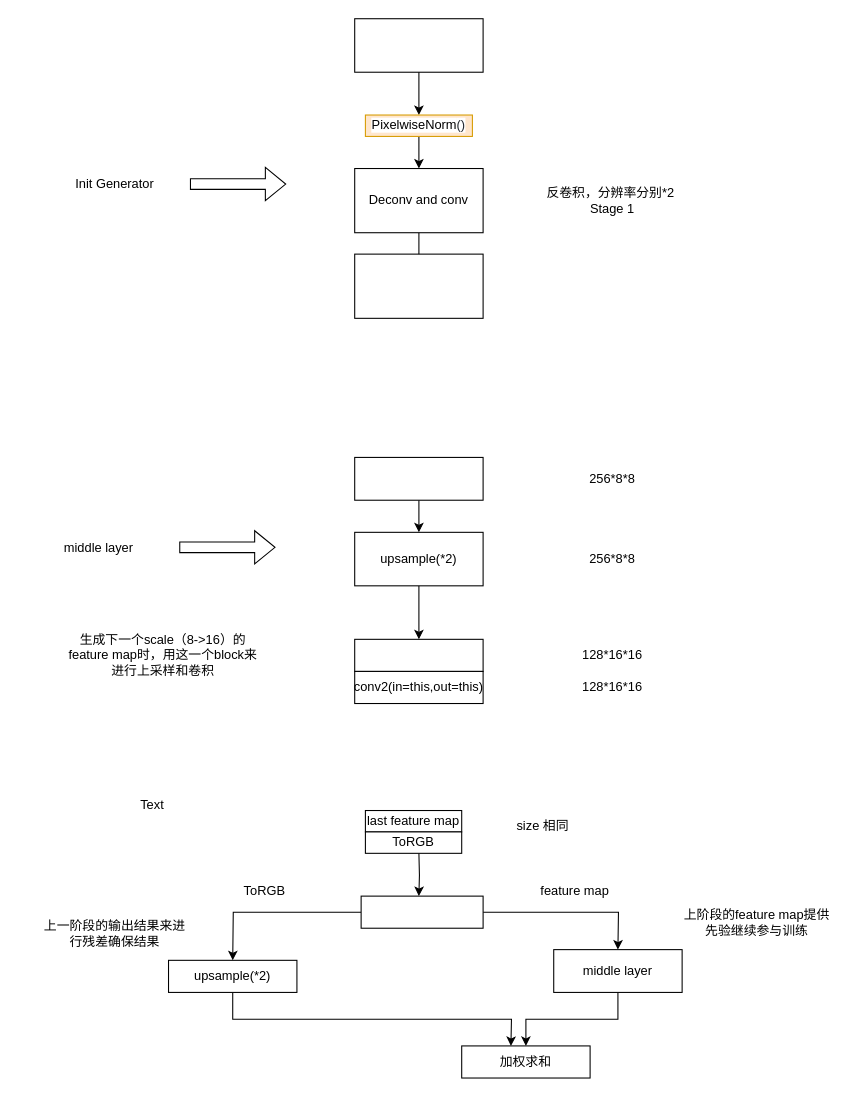
Some shapes in this 850 by 1097 pixel diagram are drawn without their labels. The shapes that lost their labels are listed below. From the top down, each one's centre as x and y in pixels, then its label:
At point 418,45: "latent space （self.nz）".
At point 418,285: "ToRGB EqualizedConv2d".
At point 418,478: "last stage's feature map".
At point 418,654: "conv1(in=last,out=this)".
At point 421,911: "split".
